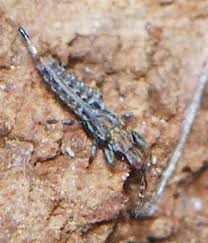Phlaeothripidae: (18, 24, 164, 218)
